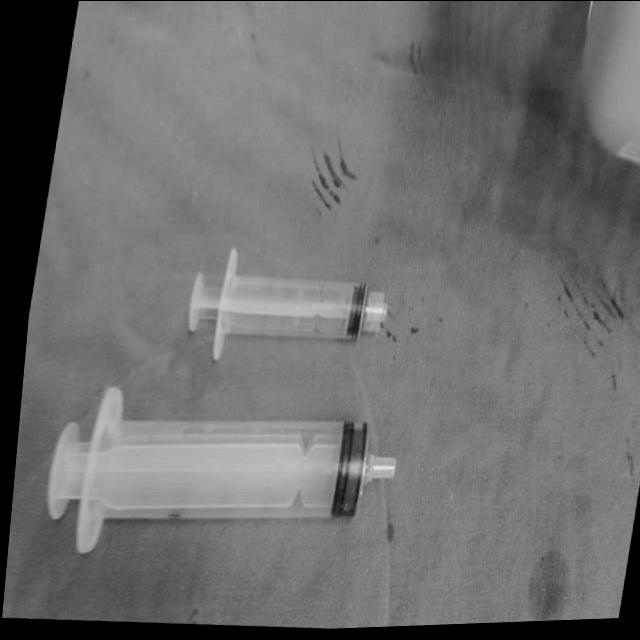General: (576, 1, 639, 176)
Infectious: (186, 247, 388, 362)
Sharps: (44, 385, 396, 555)
